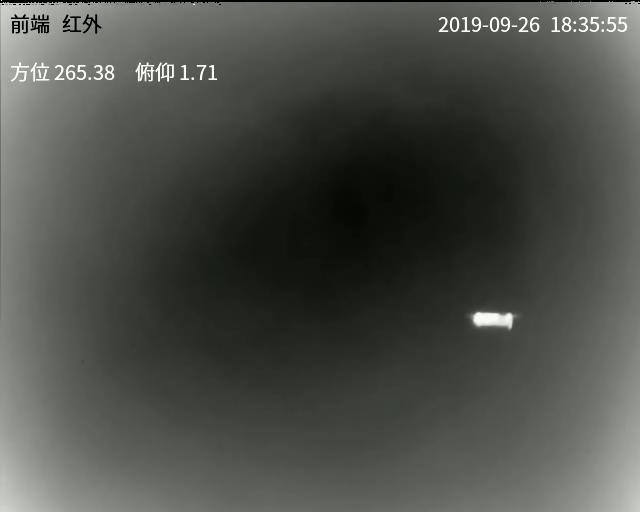uav: (466, 306, 522, 337)
